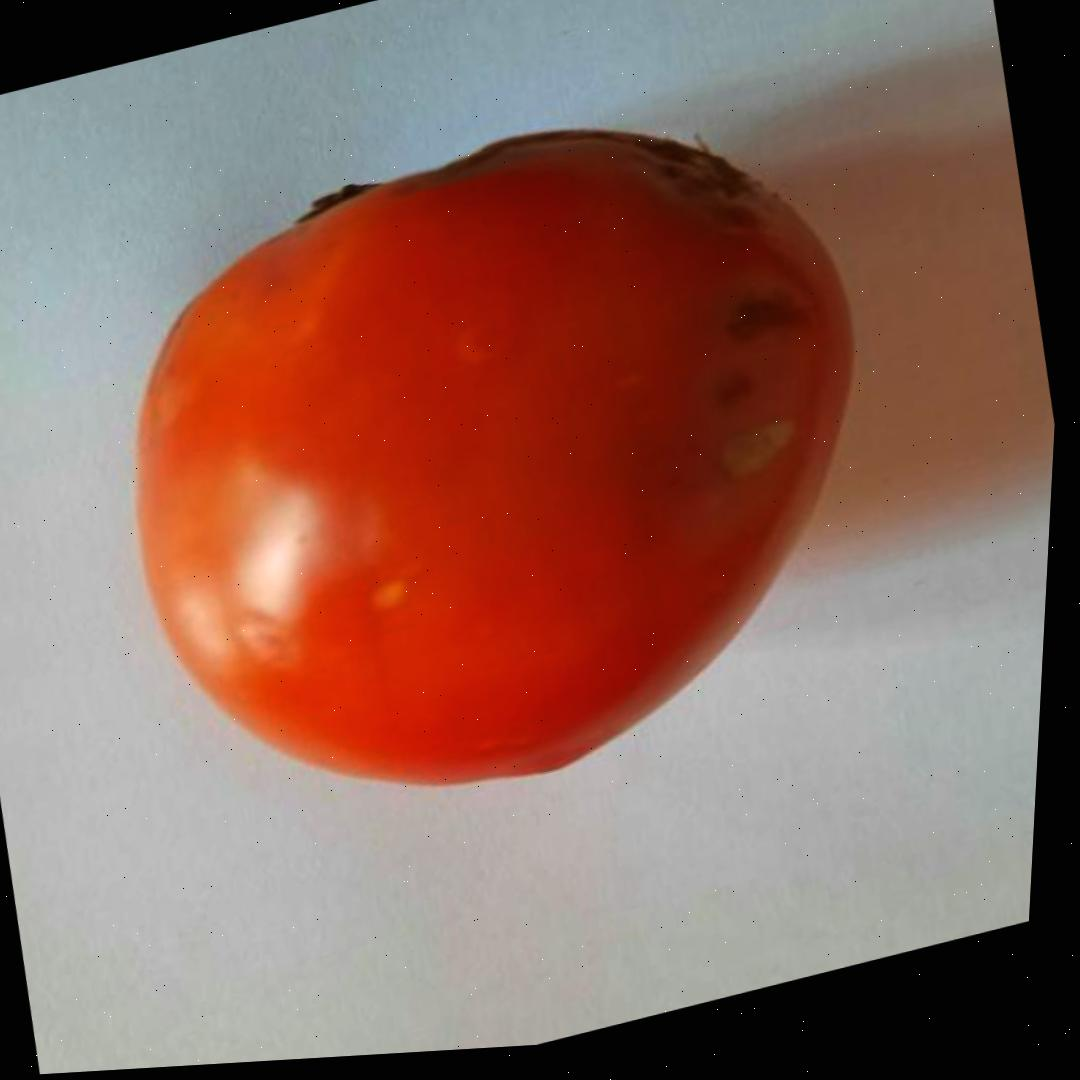matang: (57, 49, 943, 874)
